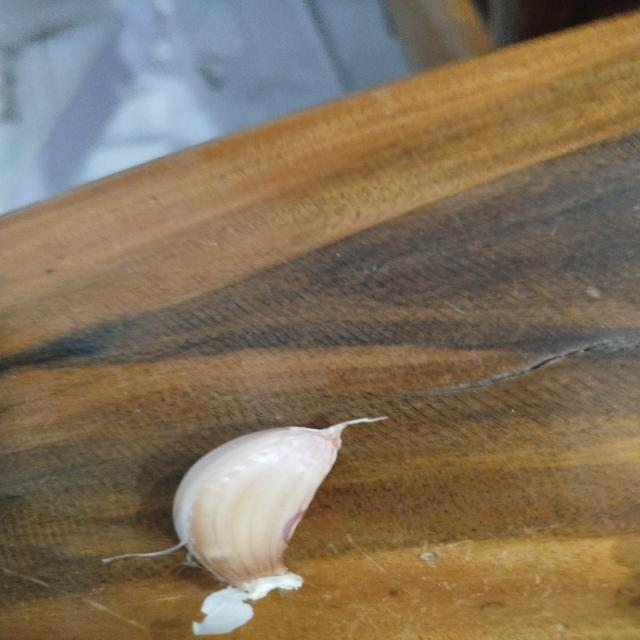garlic: (100, 414, 390, 635)
